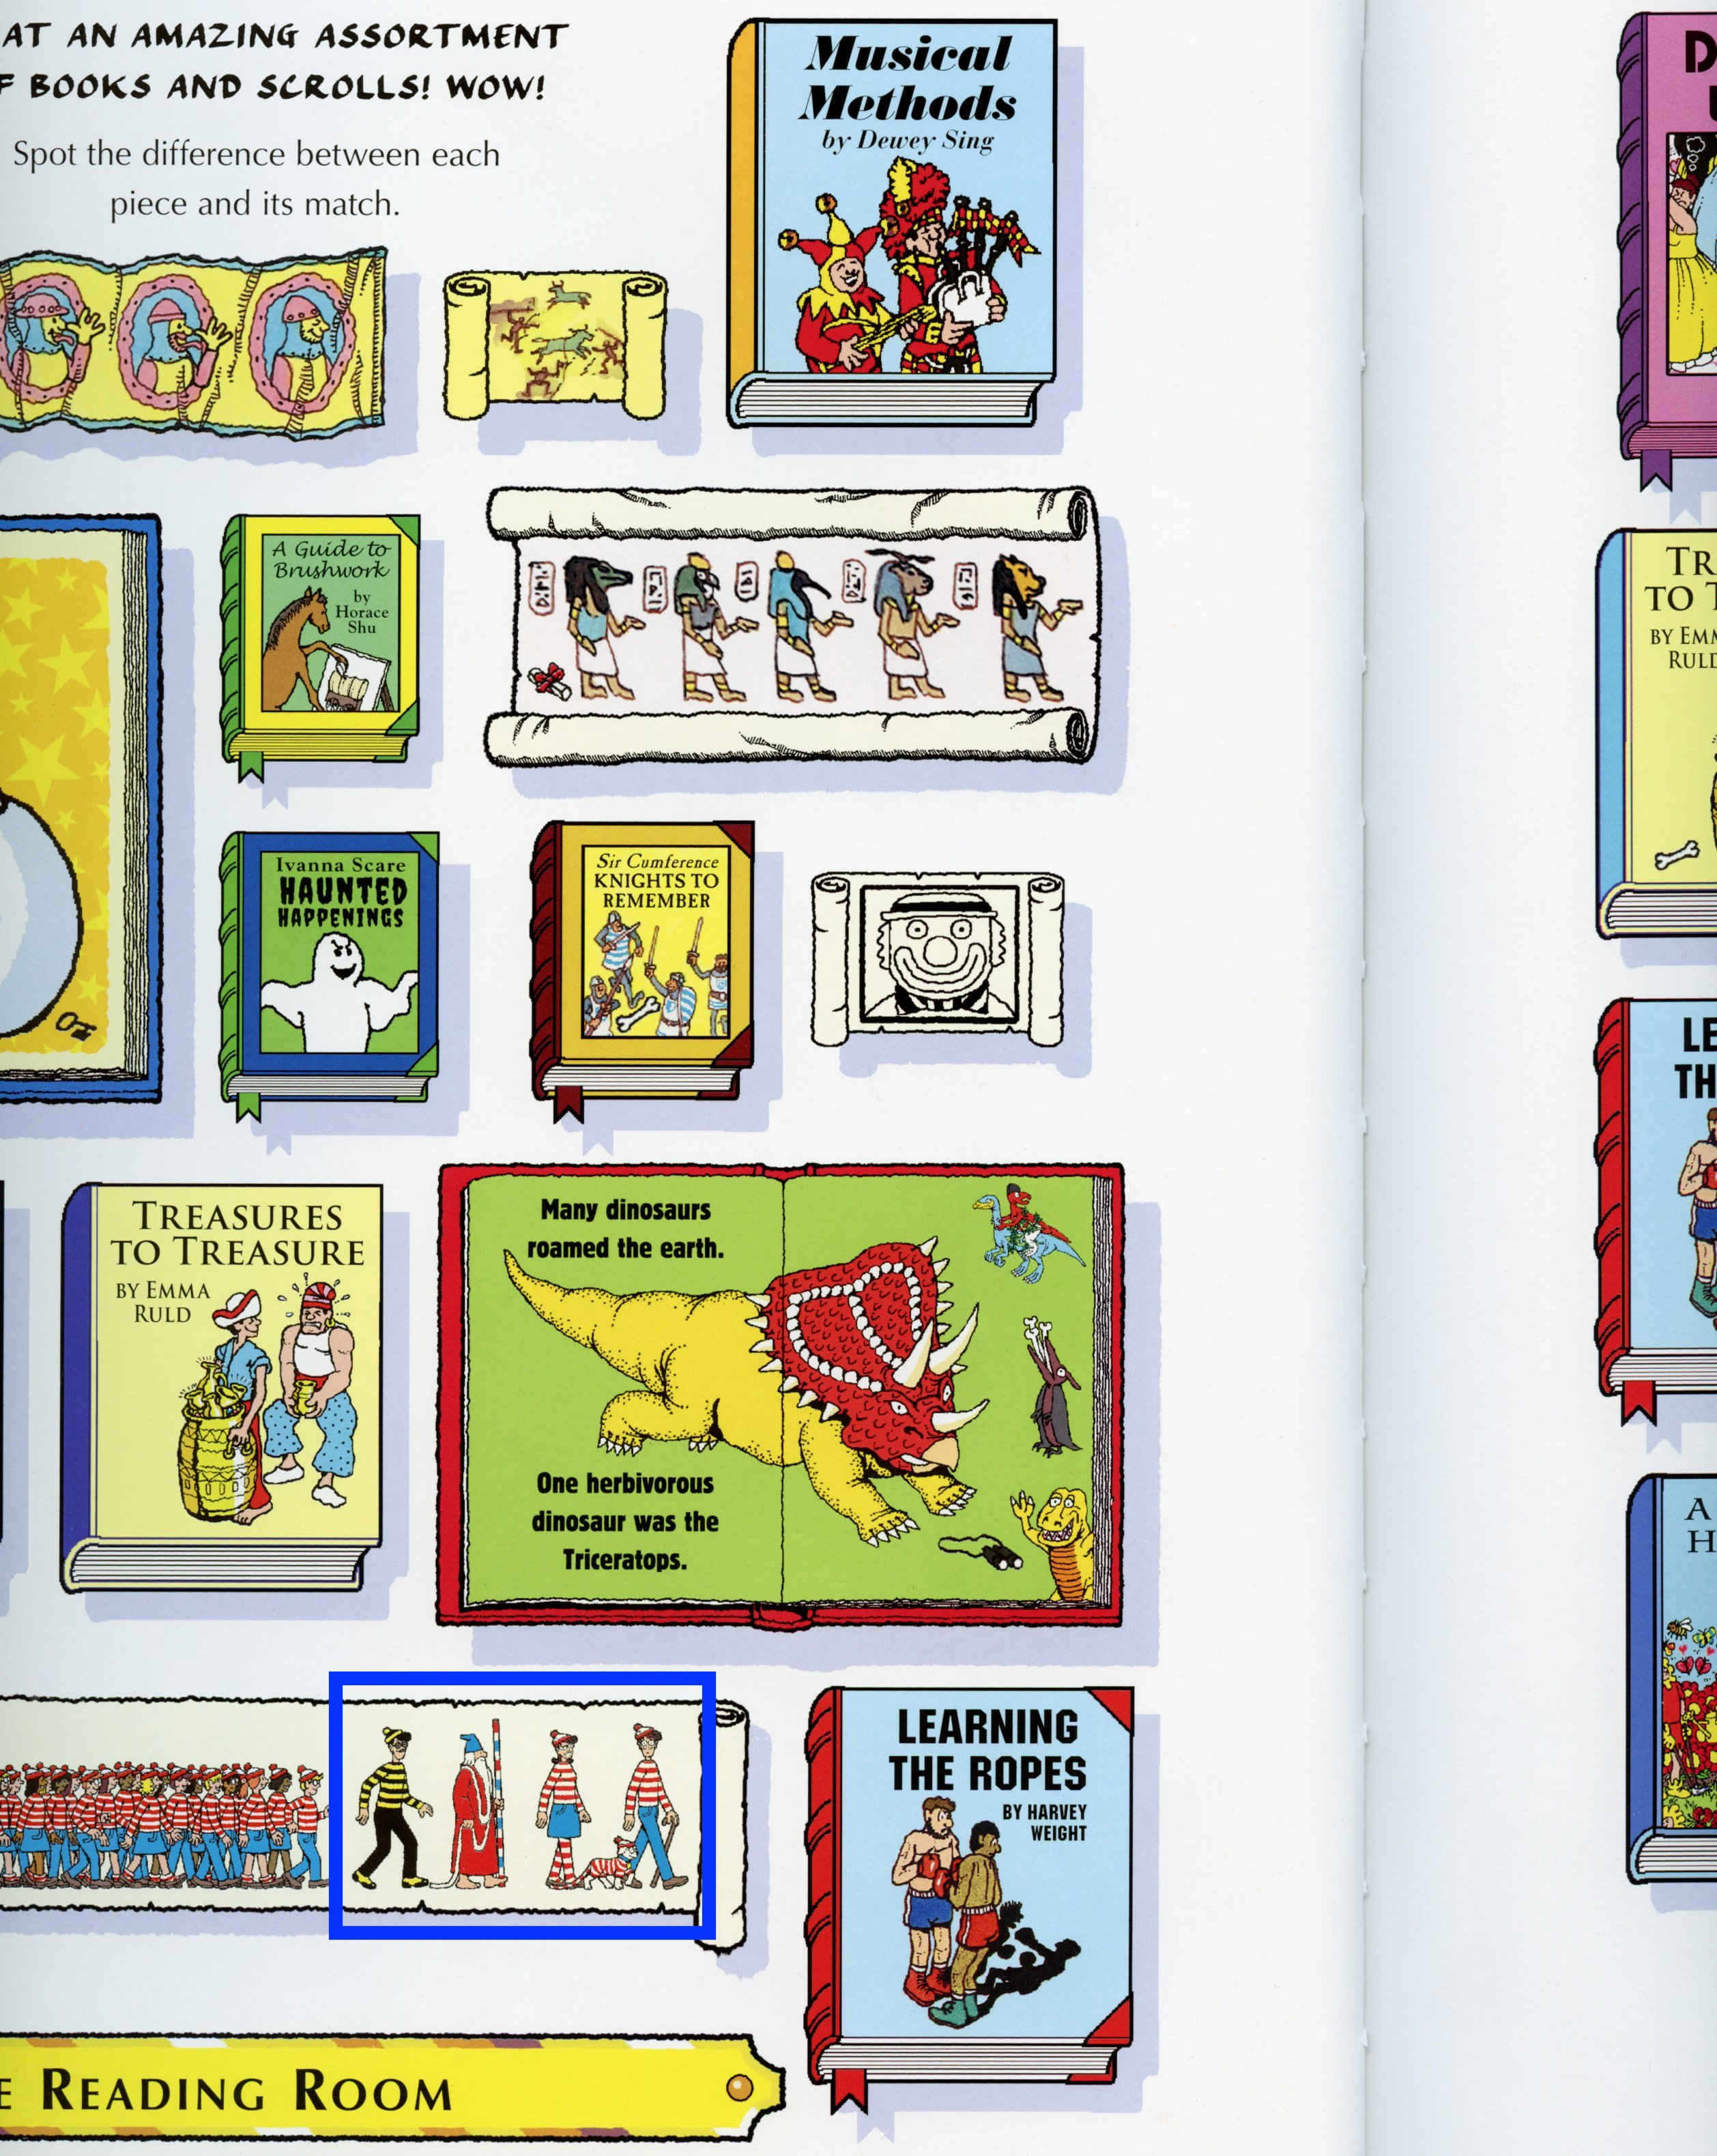odlaw: (340, 1680, 445, 1914)
waldo: (597, 1687, 736, 1937)
